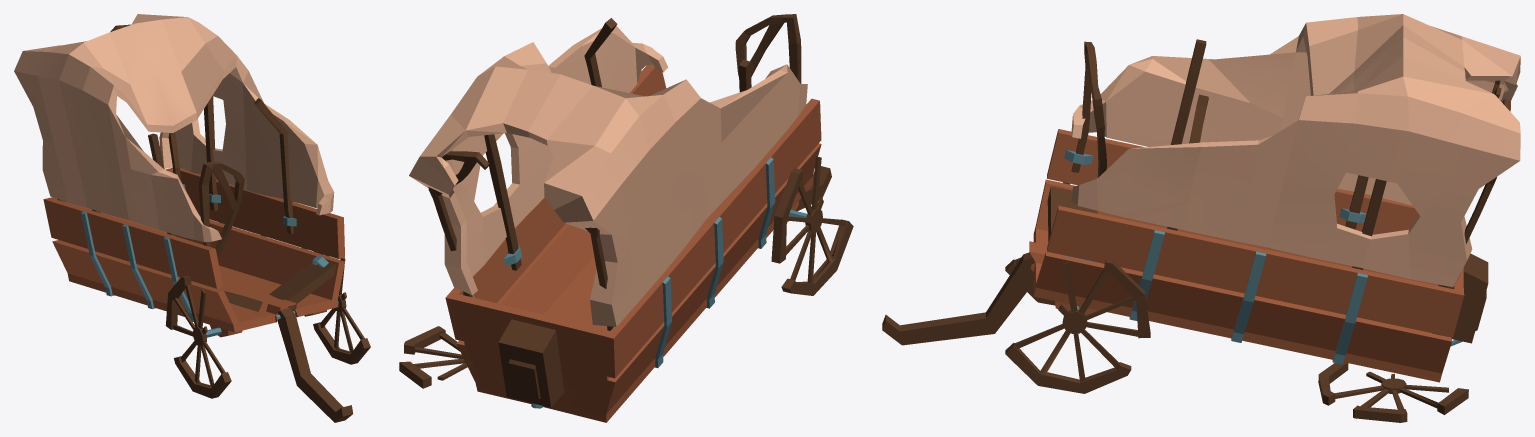
The model's file is Wagon_Broken_V01.fbx.
The picture shows the model from 3 angles, left to right: view 1: azimuth 30°, elevation 25°; view 2: azimuth 150°, elevation 25°; view 3: azimuth 270°, elevation 25°; orthographic projection. The views are drawn at different scales.
Parts seen in each view (by area): view 1: Wagon_Broken_V01; view 2: Wagon_Broken_V01; view 3: Wagon_Broken_V01.
Boxes of the visible parts, left/top/right/bottom form: Wagon_Broken_V01: left=14, top=14, right=370, bottom=422; Wagon_Broken_V01: left=399, top=14, right=853, bottom=422; Wagon_Broken_V01: left=882, top=14, right=1520, bottom=422.
Bounding box in the file's own units: 198 × 236 × 434.
